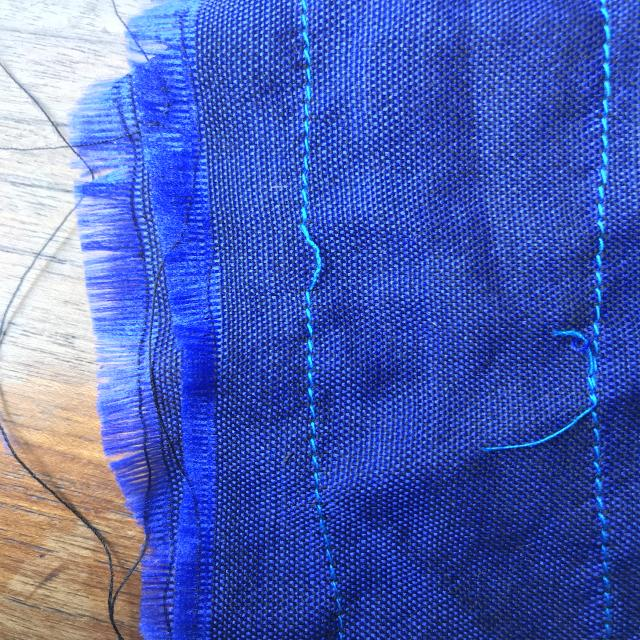good: (287, 389, 337, 485)
skip: (273, 202, 361, 312)
